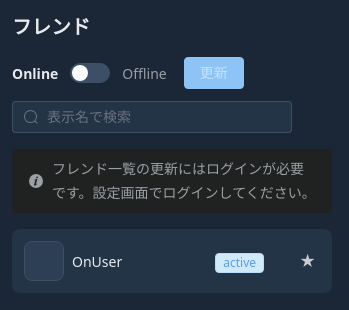
FriendsView › shows offline-none message when offline list is empty
Click the switch named "Offline一覧を表示する（オフのときはOnline）" at (90, 73), box [70,57,110,89]
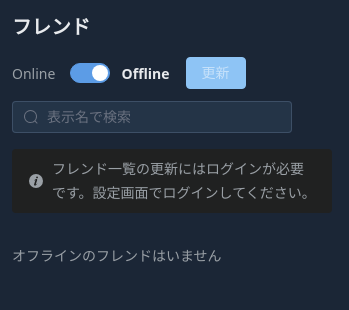
Result: the text "オフラインのフレンドはいません" is shown at [12,246,222,265]
